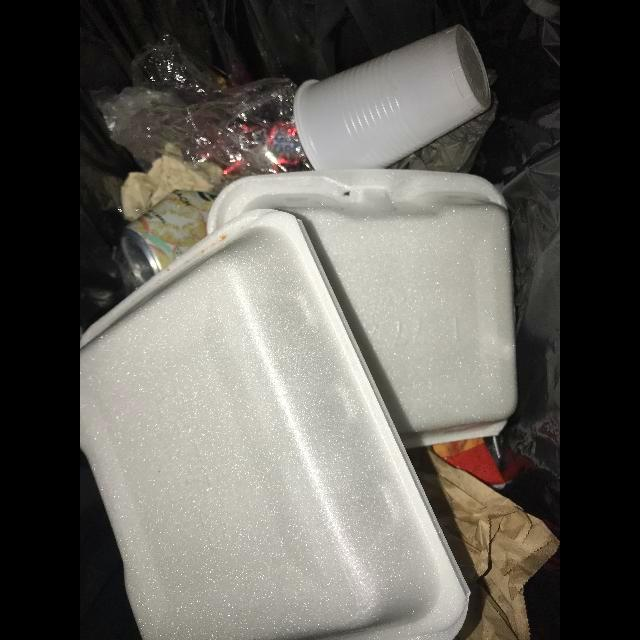aluminum: (121, 190, 217, 285)
paper: (407, 449, 560, 640)
plastic_bag: (98, 41, 299, 170)
plastic_container: (293, 25, 492, 171)
